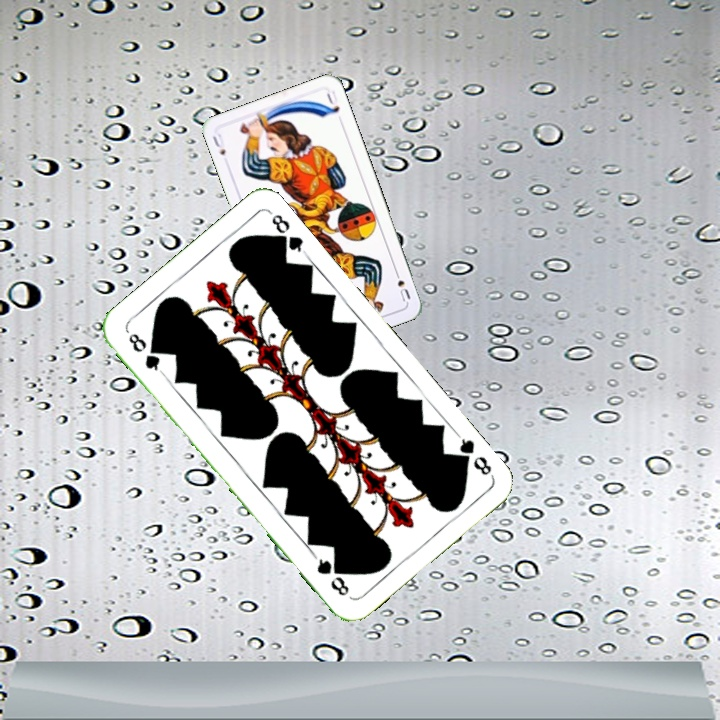G8: (451, 430, 496, 479), (124, 329, 166, 377)
SU: (390, 265, 413, 304), (208, 130, 228, 158)
